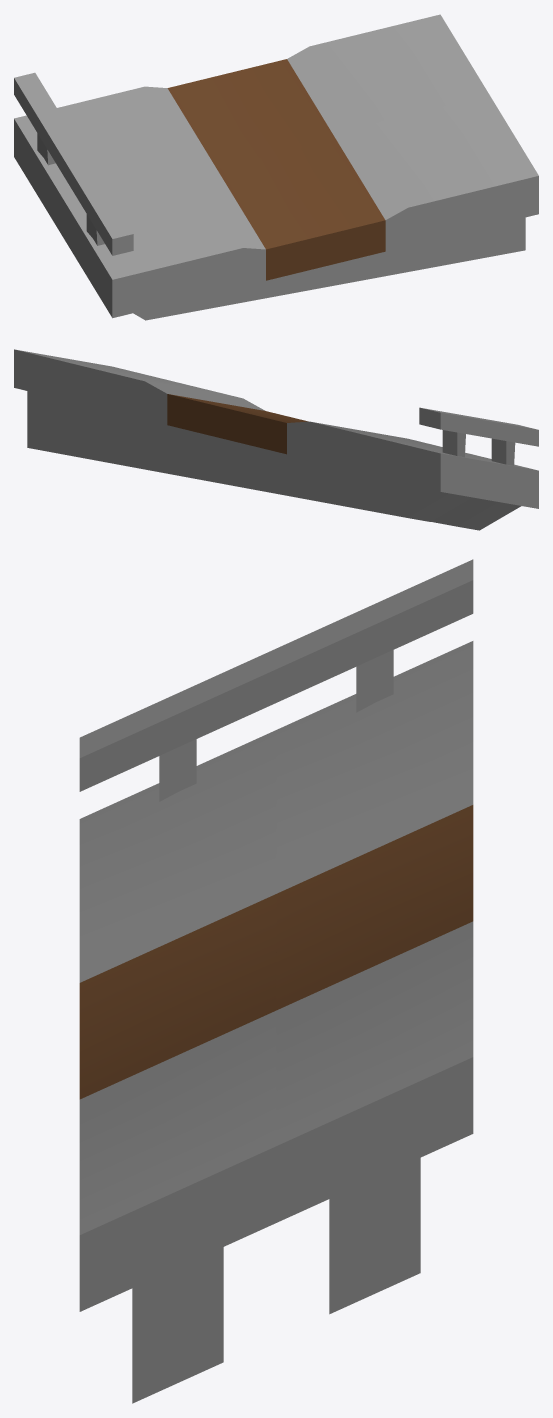
Rendered from BlocLine2P1R.FBX.
3 renders of one model, top to bottom at view 1: azimuth 30°, elevation 25°; view 2: azimuth 150°, elevation 25°; view 3: azimuth 270°, elevation 25°, orthographic. The views are drawn at different scales.
Parts seen in each view (by area): view 1: BlocLine2P1R; view 2: BlocLine2P1R; view 3: BlocLine2P1R.
Part boxes in pixels (box(x1,y1,x2,y2)): BlocLine2P1R: box(14, 14, 538, 320); BlocLine2P1R: box(14, 349, 538, 530); BlocLine2P1R: box(79, 559, 473, 1403).
Size of the model in its own units: 5 by 2.4 by 2.
